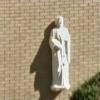Statue: (37, 10, 79, 98)
